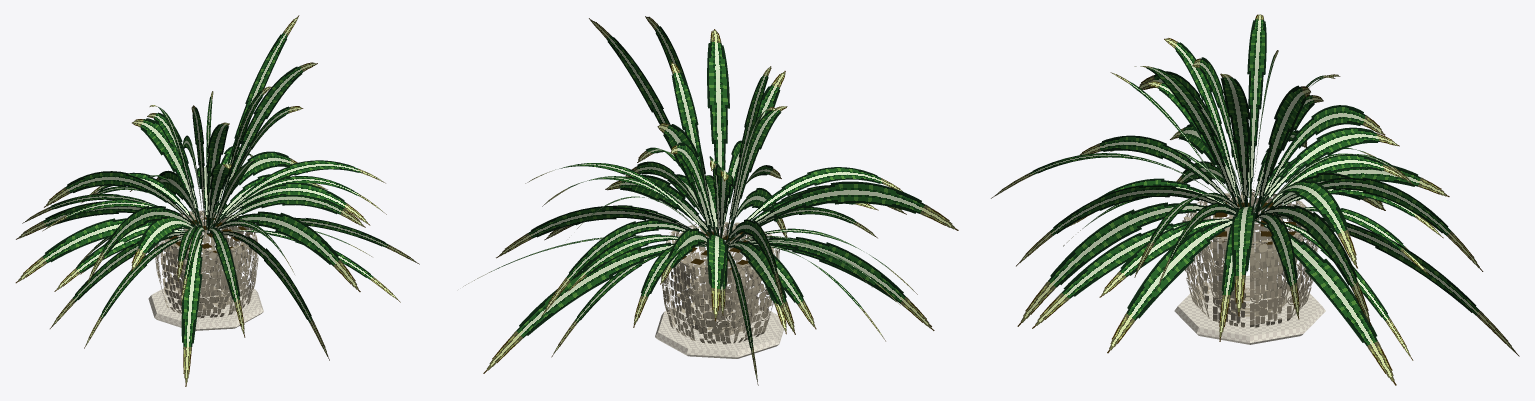
Rendered from spider.obj.
The picture shows the model from 3 angles, left to right: view 1: azimuth 30°, elevation 25°; view 2: azimuth 150°, elevation 25°; view 3: azimuth 270°, elevation 25°; orthographic projection. The views are drawn at different scales.
Visible parts, largest first — view 1: Pot, Saucer, Leaf_027, Leaf_016, Leaf_000, Leaf_007, Leaf_015, Leaf_018, Leaf_002, Leaf_010, Leaf_021, Leaf_043 (+27 smaller); view 2: Pot, Saucer, Leaf_002, Leaf_031, Leaf_011, Leaf_042, Leaf_041, Leaf_030, Leaf_037, Leaf_036, Leaf_022, Leaf_045 (+22 smaller); view 3: Pot, Saucer, Leaf_043, Leaf_026, Leaf_035, Leaf_041, Leaf_032, Leaf_030, Leaf_031, Leaf_027, Leaf_012, Leaf_022 (+29 smaller).
Boxes of the visible parts, left/top/right/bottom form: Pot: left=154, top=210, right=258, bottom=318; Saucer: left=148, top=278, right=263, bottom=330; Leaf_027: left=225, top=211, right=360, bottom=291; Leaf_016: left=181, top=235, right=203, bottom=386; Leaf_000: left=212, top=62, right=317, bottom=227; Leaf_007: left=44, top=171, right=195, bottom=225; Leaf_015: left=15, top=218, right=189, bottom=283; Leaf_018: left=214, top=182, right=370, bottom=226; Leaf_002: left=87, top=205, right=202, bottom=283; Leaf_010: left=216, top=160, right=385, bottom=222; Leaf_021: left=132, top=118, right=202, bottom=226; Leaf_043: left=221, top=231, right=329, bottom=360; Pot: left=661, top=221, right=779, bottom=344; Saucer: left=655, top=298, right=783, bottom=358; Leaf_002: left=731, top=181, right=958, bottom=243; Leaf_031: left=483, top=242, right=706, bottom=373; Leaf_011: left=746, top=237, right=934, bottom=330; Leaf_042: left=707, top=29, right=729, bottom=237; Leaf_041: left=496, top=206, right=691, bottom=258; Leaf_030: left=541, top=219, right=686, bottom=316; Leaf_037: left=728, top=167, right=903, bottom=239; Leaf_036: left=589, top=18, right=711, bottom=233; Leaf_022: left=727, top=241, right=795, bottom=334; Leaf_045: left=670, top=62, right=705, bottom=186; Pot: left=1182, top=189, right=1318, bottom=327; Saucer: left=1174, top=275, right=1325, bottom=344; Leaf_043: left=1017, top=202, right=1235, bottom=326; Leaf_026: left=1254, top=220, right=1396, bottom=385; Leaf_035: left=1107, top=220, right=1232, bottom=353; Leaf_041: left=1255, top=205, right=1371, bottom=325; Leaf_032: left=1032, top=218, right=1220, bottom=328; Leaf_030: left=1272, top=177, right=1483, bottom=271; Leaf_031: left=1277, top=215, right=1519, bottom=356; Leaf_027: left=1016, top=185, right=1221, bottom=266; Leaf_012: left=1247, top=14, right=1266, bottom=206; Leaf_022: left=1260, top=127, right=1399, bottom=208.
Bounding box in the file's own units: 5.61 × 3.94 × 5.74.
